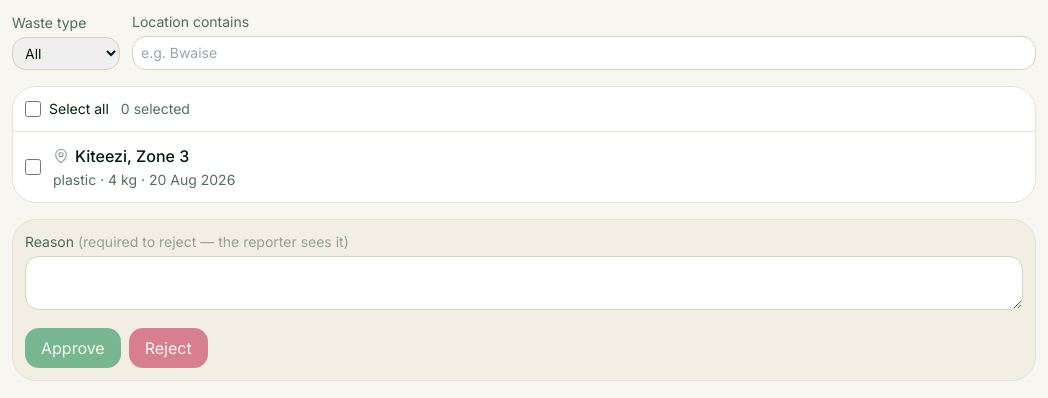
SupervisorInboxView › selection › enables approving once a report is selected
The image size is (1048, 398).
Click the checkbox named "Select report 1" at (33,167), box [25,159,41,175]
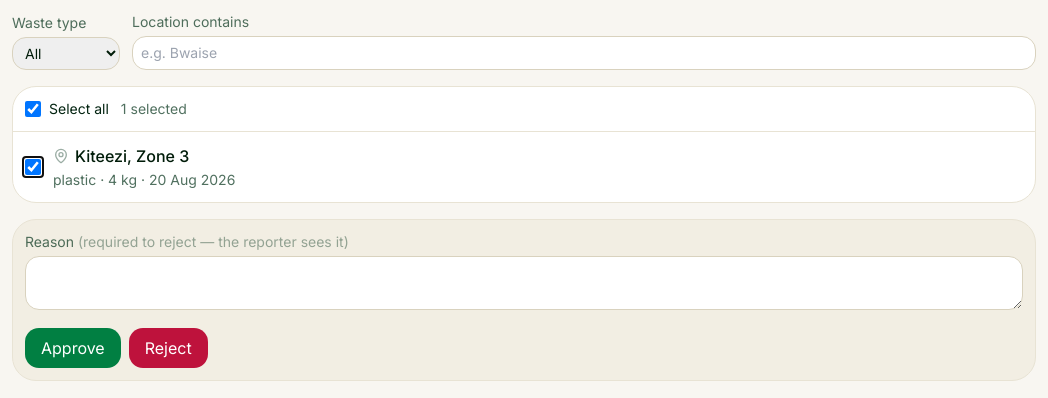
Result: the button "Approve" is enabled at [25,328,121,368]
